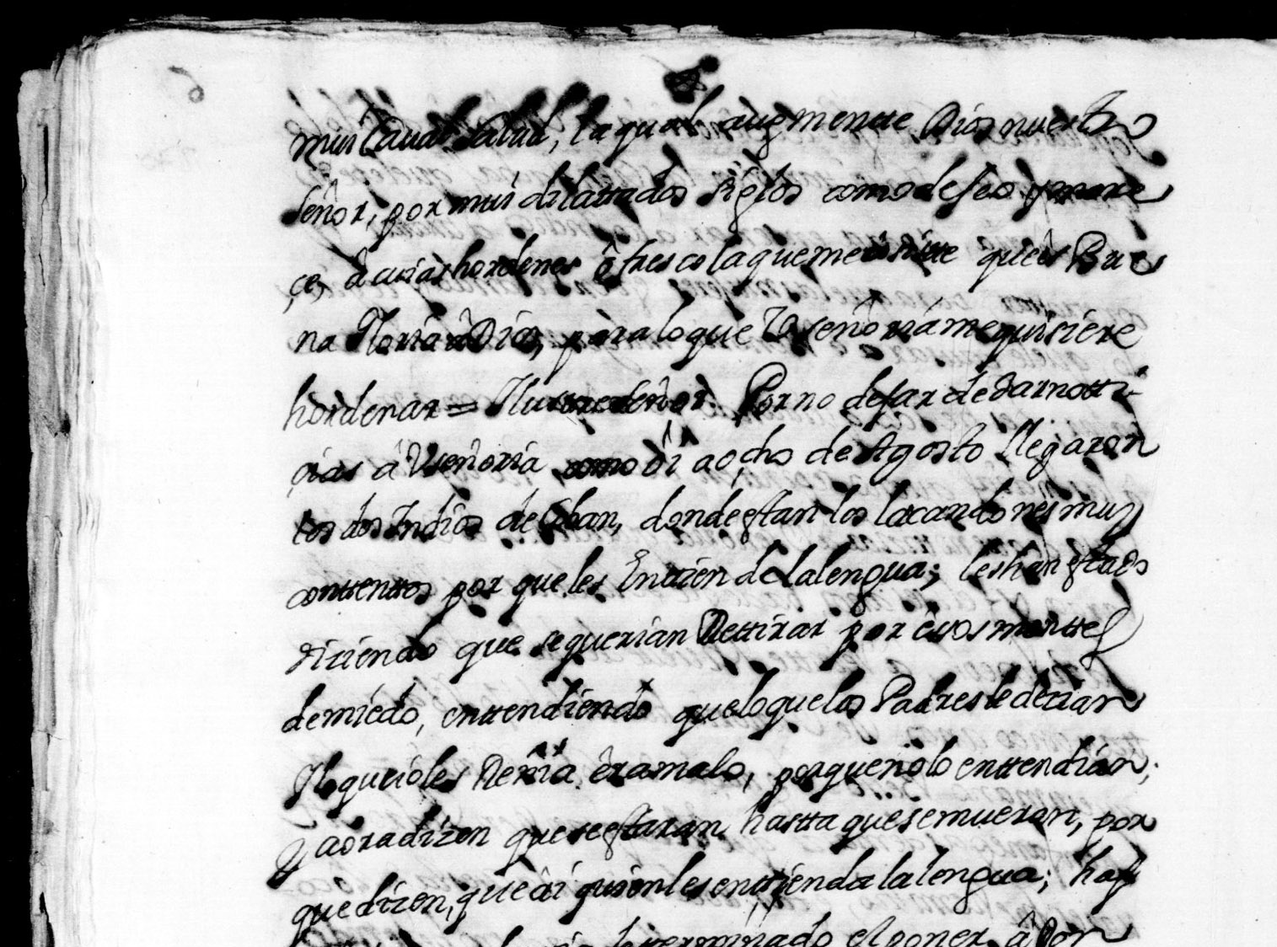lacandon: (873, 477, 1059, 527)
